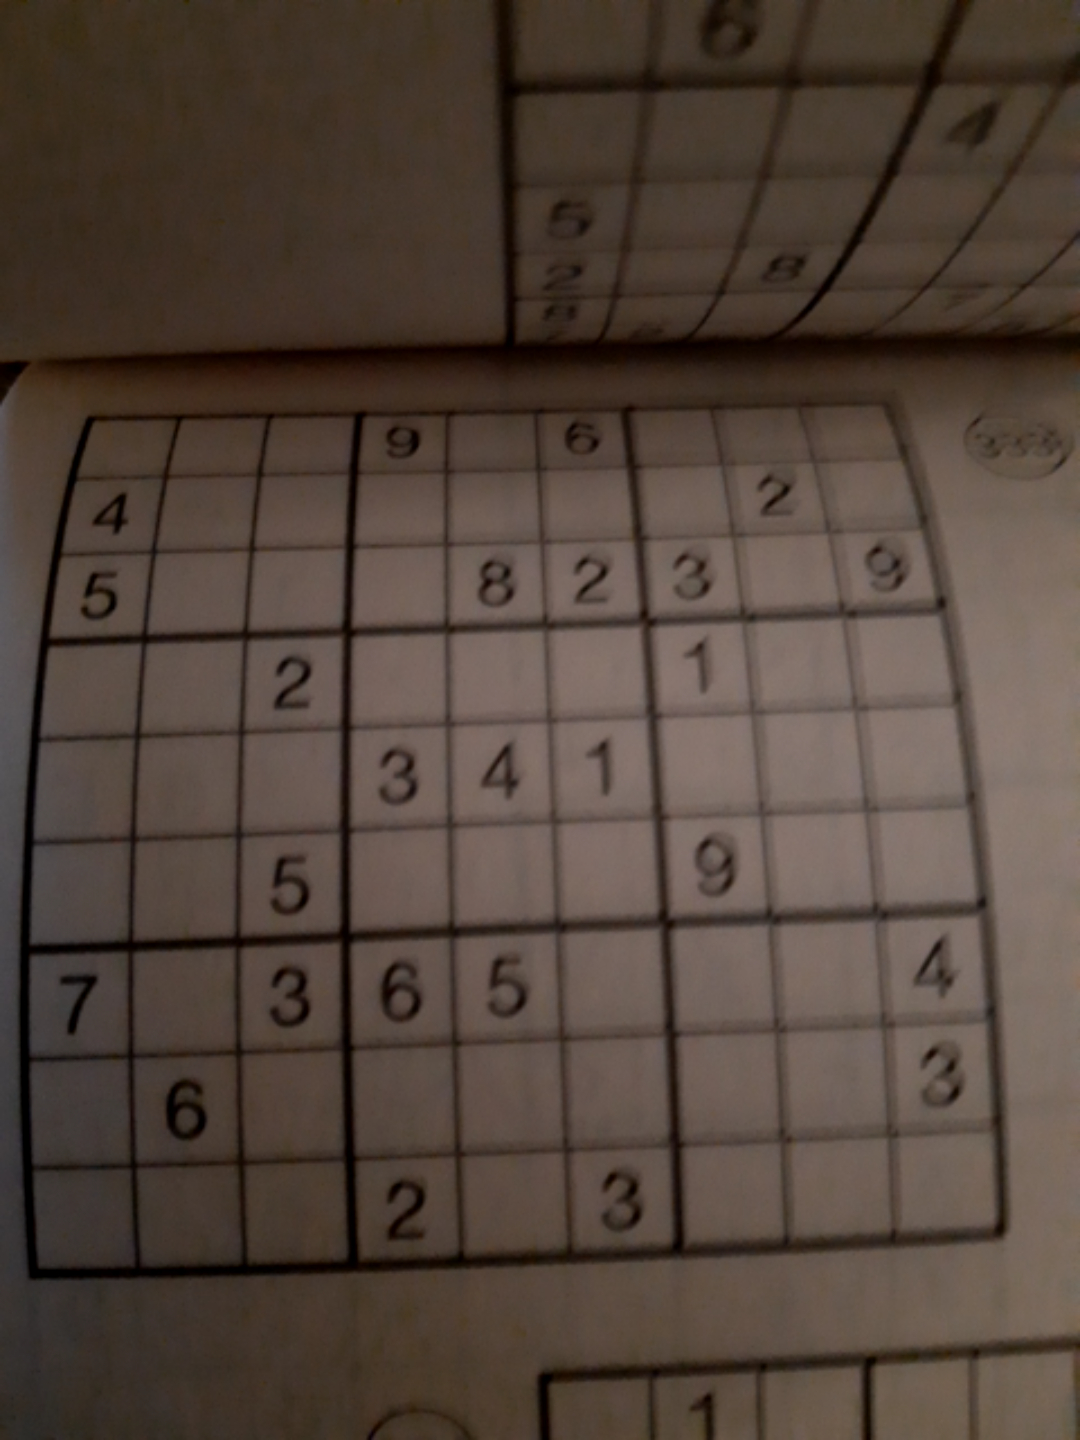sudoku: (12, 398, 1007, 1273)
